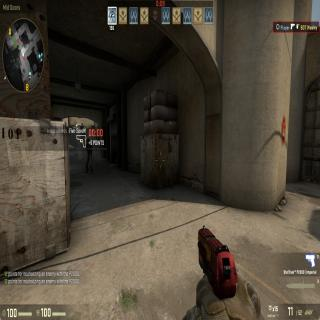T-Body: (84, 137, 94, 176), (80, 121, 85, 138)
